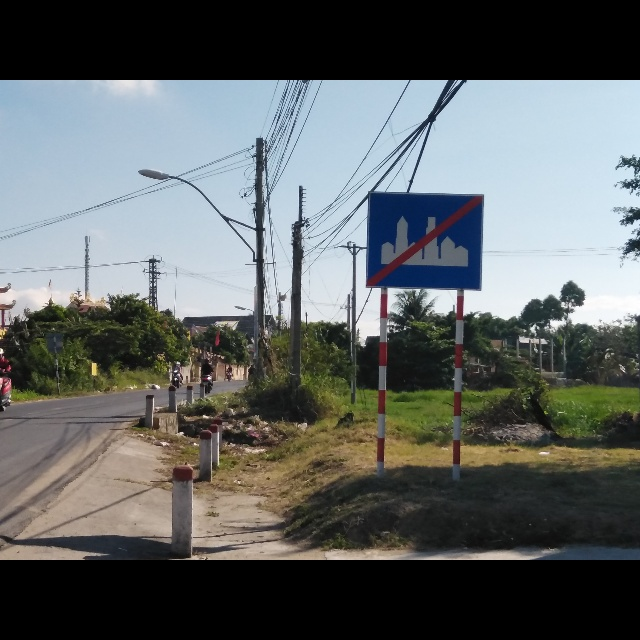Hết khu đông dân cư: (366, 190, 485, 293)
